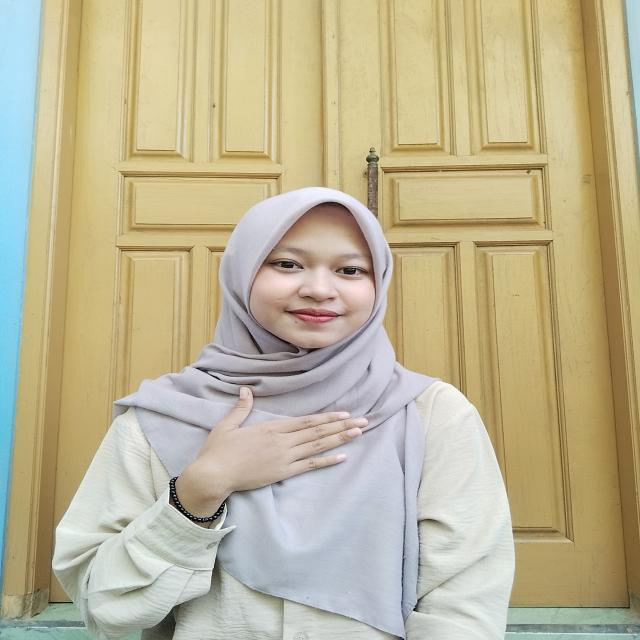tolong: (157, 388, 363, 519)
